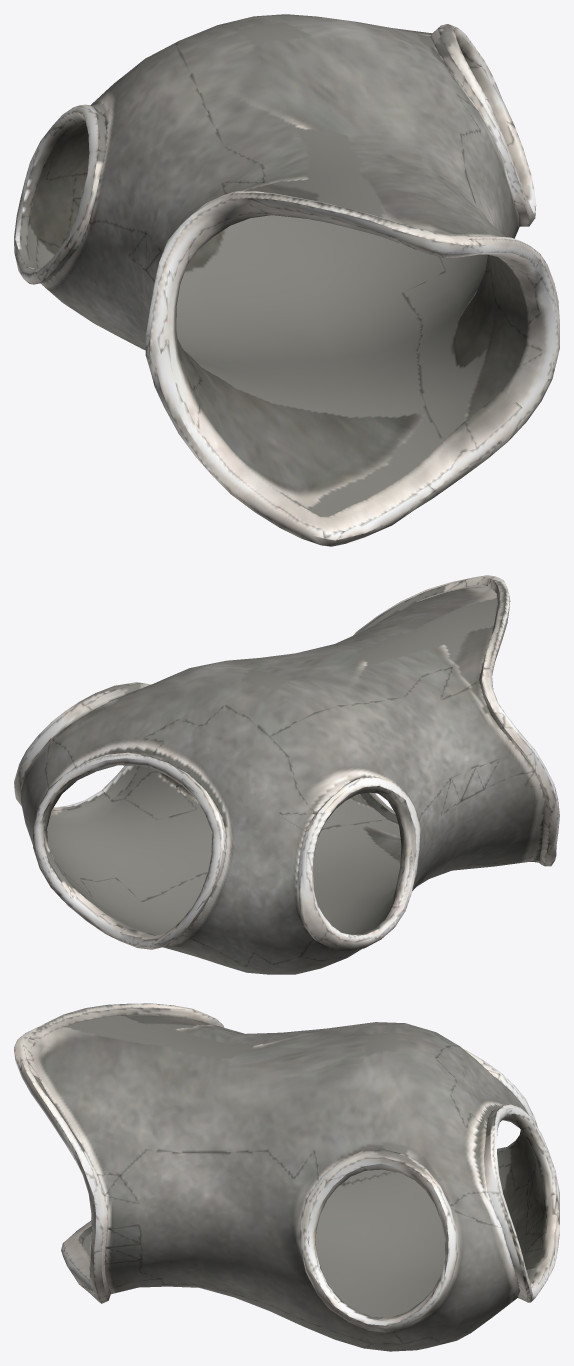
File: item_mm9_10109.glb
The picture shows the model from 3 angles, top to bottom: view 1: azimuth 30°, elevation 25°; view 2: azimuth 150°, elevation 25°; view 3: azimuth 270°, elevation 25°; orthographic projection. The views are drawn at different scales.
Parts seen in each view (by area): view 1: d10109; view 2: d10109; view 3: d10109.
Part boxes in pixels (x1=…): d10109: x1=14, y1=14, x2=559, y2=546; d10109: x1=14, y1=575, x2=559, y2=974; d10109: x1=14, y1=1003, x2=559, y2=1351.
Bounding box in the file's own units: 0.8775 × 0.5523 × 0.9992.
1 material, 1 textured.
